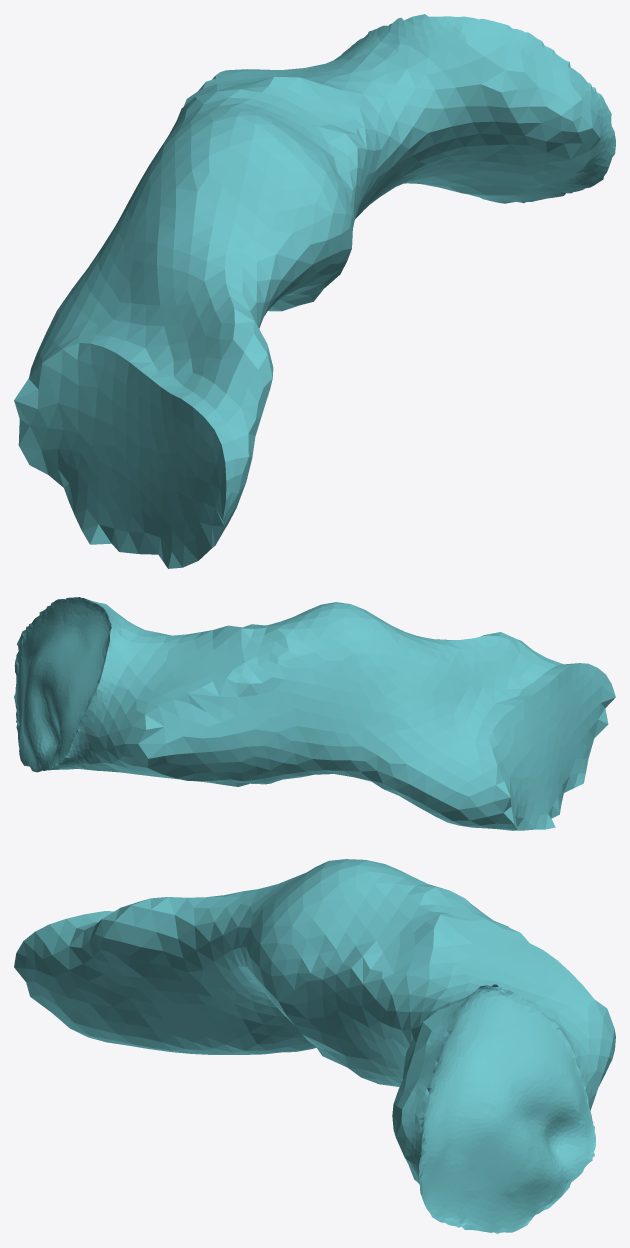
The picture shows the model from 3 angles, top to bottom: view 1: azimuth 30°, elevation 25°; view 2: azimuth 150°, elevation 25°; view 3: azimuth 270°, elevation 25°; orthographic projection. The views are drawn at different scales.
Parts seen in each view (by area): view 1: Shape_IndexedFaceSet.001; view 2: Shape_IndexedFaceSet.001; view 3: Shape_IndexedFaceSet.001.
Part boxes in pixels (x1,y1,x2,y2): Shape_IndexedFaceSet.001: (14,14,615,568); Shape_IndexedFaceSet.001: (14,597,615,830); Shape_IndexedFaceSet.001: (14,859,615,1233).
Size of the model in its own units: 2707 by 1243 by 2418.
